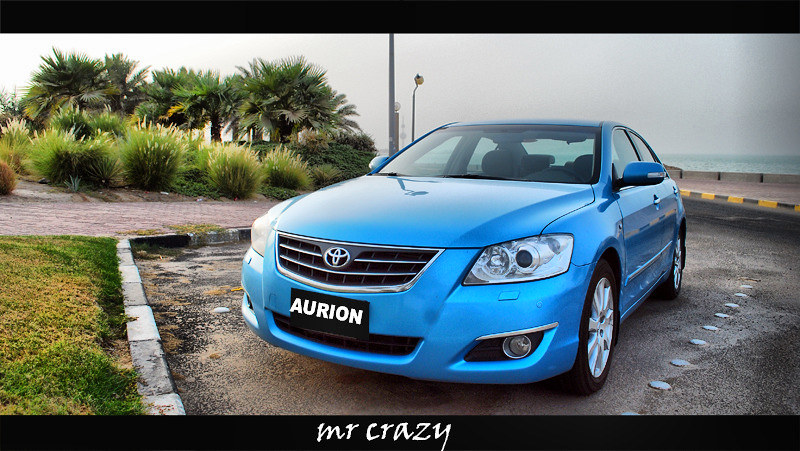car: (235, 107, 690, 393)
